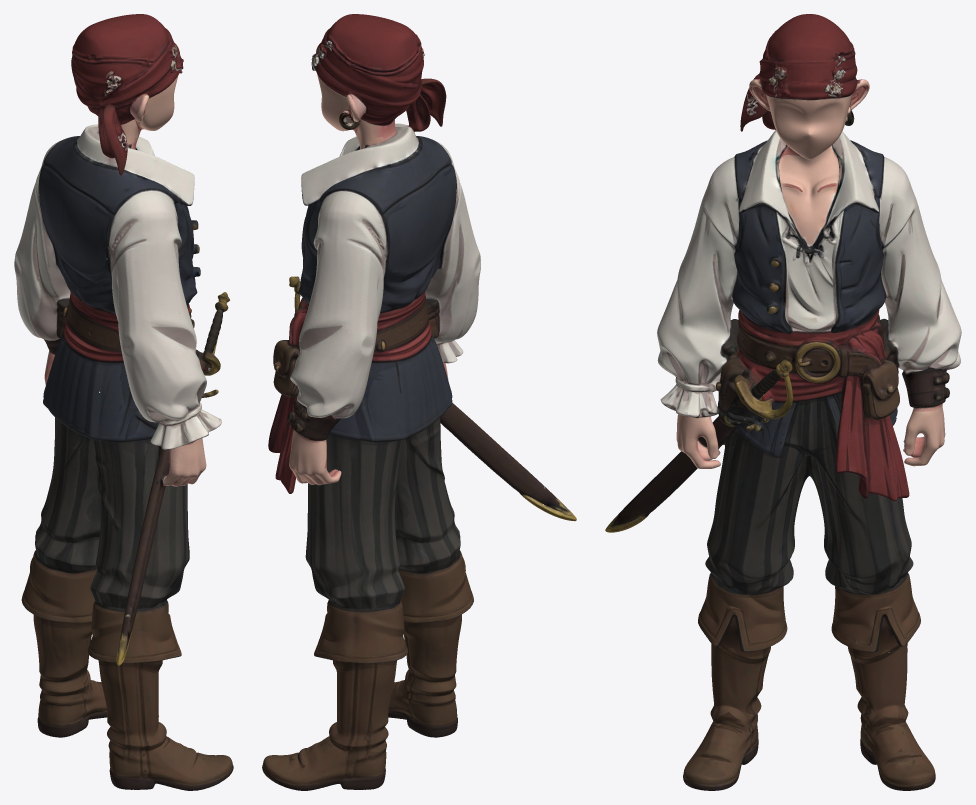
Rendered from pirate+character+3d+model.glb.
The picture shows the model from 3 angles, left to right: view 1: azimuth 30°, elevation 25°; view 2: azimuth 150°, elevation 25°; view 3: azimuth 270°, elevation 25°; orthographic projection.
Parts seen in each view (by area): view 1: tripo_node_315347bb-d945-474a-b048-8272c02e340d; view 2: tripo_node_315347bb-d945-474a-b048-8272c02e340d; view 3: tripo_node_315347bb-d945-474a-b048-8272c02e340d.
Part boxes in pixels (x1,y1,x2,y2): tripo_node_315347bb-d945-474a-b048-8272c02e340d: (14, 14, 233, 790); tripo_node_315347bb-d945-474a-b048-8272c02e340d: (262, 14, 576, 790); tripo_node_315347bb-d945-474a-b048-8272c02e340d: (605, 14, 961, 790).
Bounding box in the file's own units: 0.2861 × 1 × 0.4346.
Materials: 1 (1 with a texture image).
